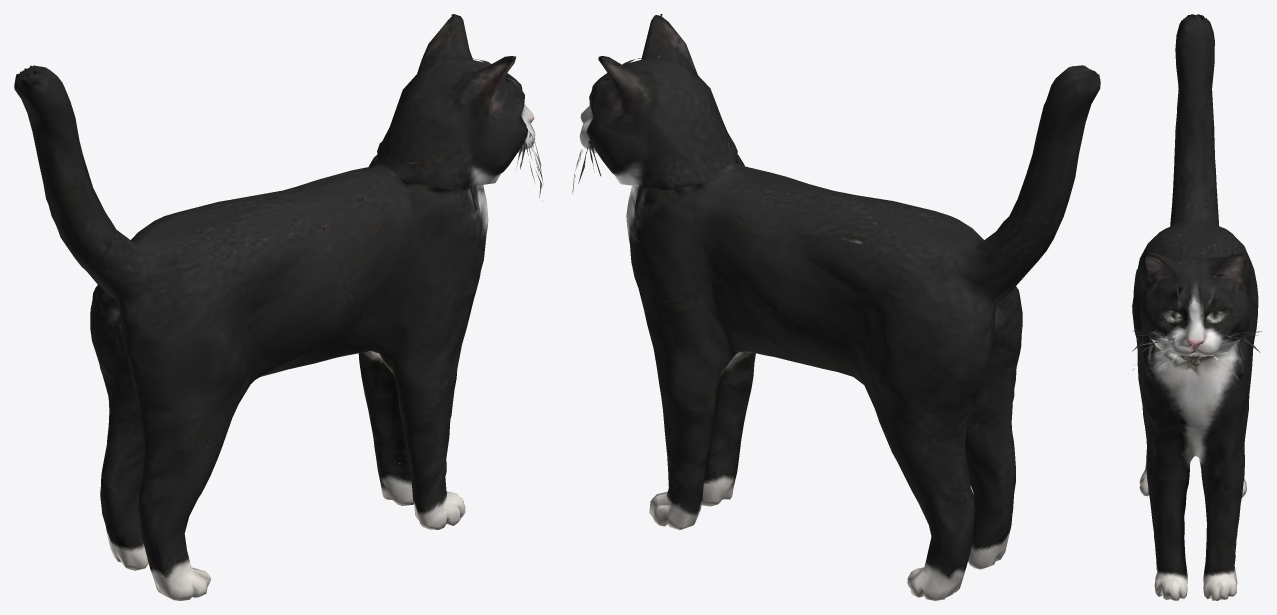
Rendered from HODGESE1-lo.glb.
3 renders of one model, left to right at view 1: azimuth 30°, elevation 25°; view 2: azimuth 150°, elevation 25°; view 3: azimuth 270°, elevation 25°, orthographic. The views are drawn at different scales.
Visible parts, largest first — view 1: tripo_node_b8ccac4c-5d54-4a3b-8f85-c82cac31a285; view 2: tripo_node_b8ccac4c-5d54-4a3b-8f85-c82cac31a285; view 3: tripo_node_b8ccac4c-5d54-4a3b-8f85-c82cac31a285.
Part boxes in pixels (left/top/right/bottom): tripo_node_b8ccac4c-5d54-4a3b-8f85-c82cac31a285: left=14, top=14, right=543, bottom=600; tripo_node_b8ccac4c-5d54-4a3b-8f85-c82cac31a285: left=572, top=14, right=1100, bottom=600; tripo_node_b8ccac4c-5d54-4a3b-8f85-c82cac31a285: left=1132, top=14, right=1261, bottom=600.
Bounding box in the file's own units: 0.9946 × 0.9998 × 0.2802.
1 material, 1 textured.
